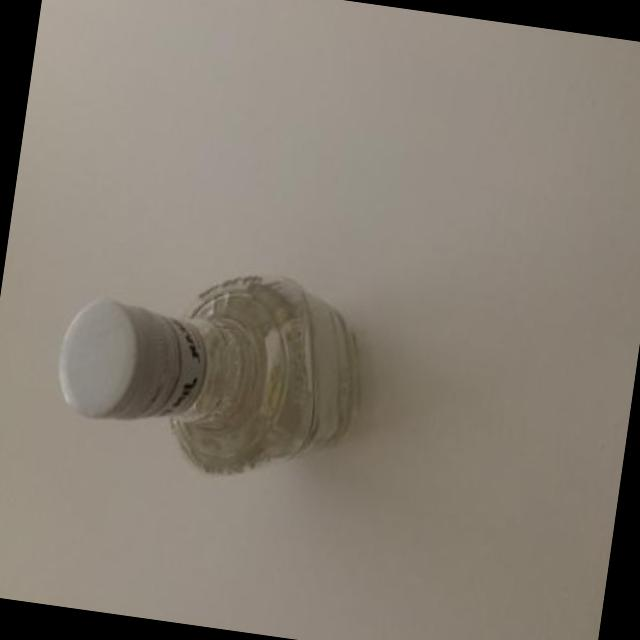chai_thuy_tinh: (56, 271, 363, 474)
